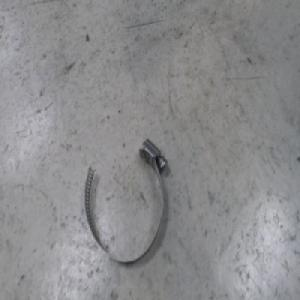AdjustableClamp: (82, 134, 168, 265)
